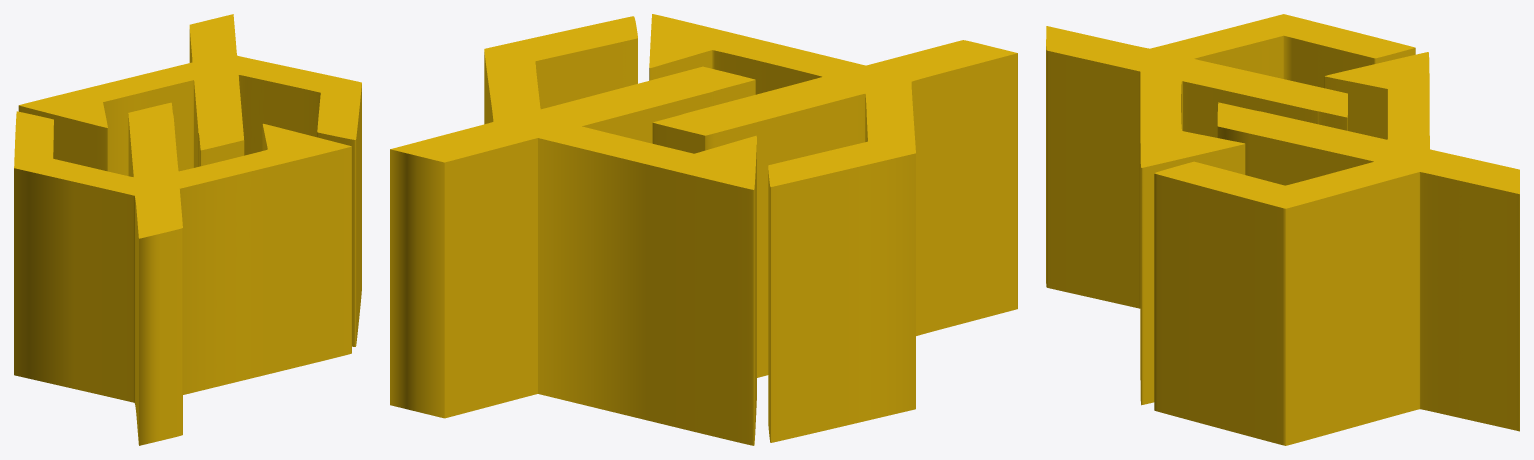
The model's file is zor.glb.
3 views of the same model, side by side, from view 1: azimuth 30°, elevation 25°; view 2: azimuth 150°, elevation 25°; view 3: azimuth 270°, elevation 25° (orthographic). The views are drawn at different scales.
Parts seen in each view (by area): view 1: Curve.001, Curve; view 2: Curve, Curve.001; view 3: Curve, Curve.001.
Boxes of the visible parts, bbox=[...] form: Curve.001: bbox=[14, 102, 351, 445]; Curve: bbox=[18, 14, 361, 346]; Curve: bbox=[390, 16, 756, 445]; Curve.001: bbox=[649, 14, 1017, 442]; Curve: bbox=[1154, 52, 1519, 445]; Curve.001: bbox=[1046, 14, 1415, 405].
Size of the model in its own units: 0.1827 by 0.1038 by 0.1878.
